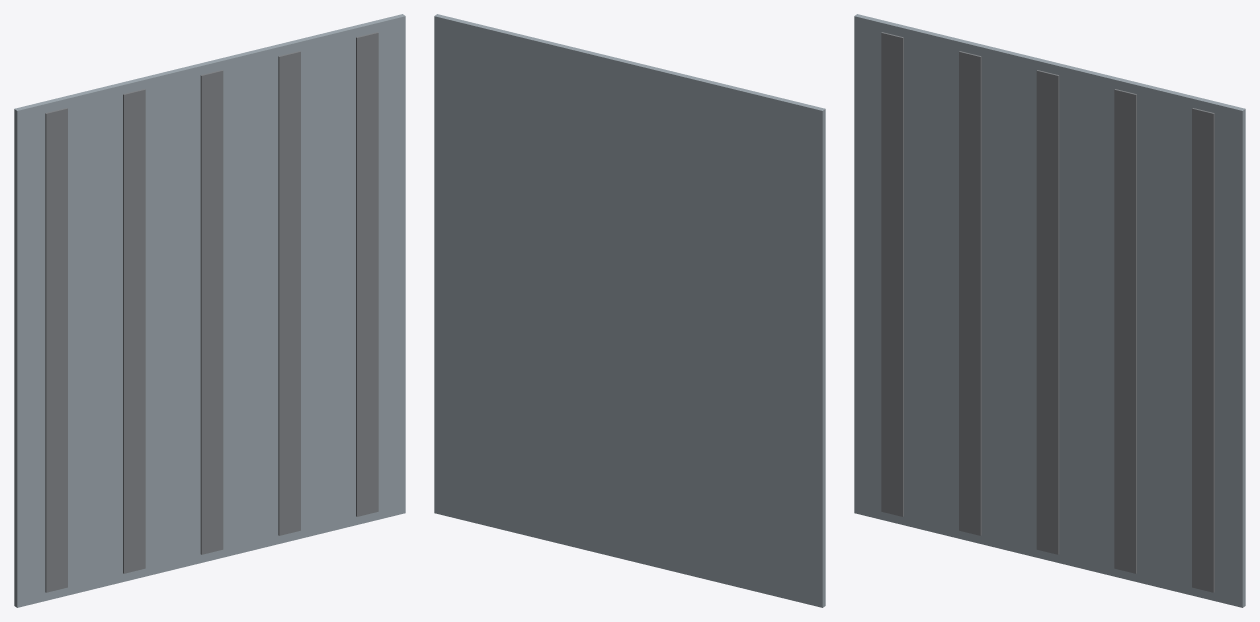
The model's file is GD_TinfoilPane_01.glb.
3 renders of one model, left to right at view 1: azimuth 30°, elevation 25°; view 2: azimuth 150°, elevation 25°; view 3: azimuth 330°, elevation 25°, orthographic.
Visible parts, largest first — view 1: GD_TinfoilPane_01; view 2: GD_TinfoilPane_01; view 3: GD_TinfoilPane_01.
Part boxes in pixels (x1,y1,x2,y2): GD_TinfoilPane_01: (14,14,405,607); GD_TinfoilPane_01: (434,14,825,607); GD_TinfoilPane_01: (854,14,1245,607).
Bounding box in the file's own units: 0.9 × 1.1 × 0.016.
Materials: 1 (1 with a texture image).
